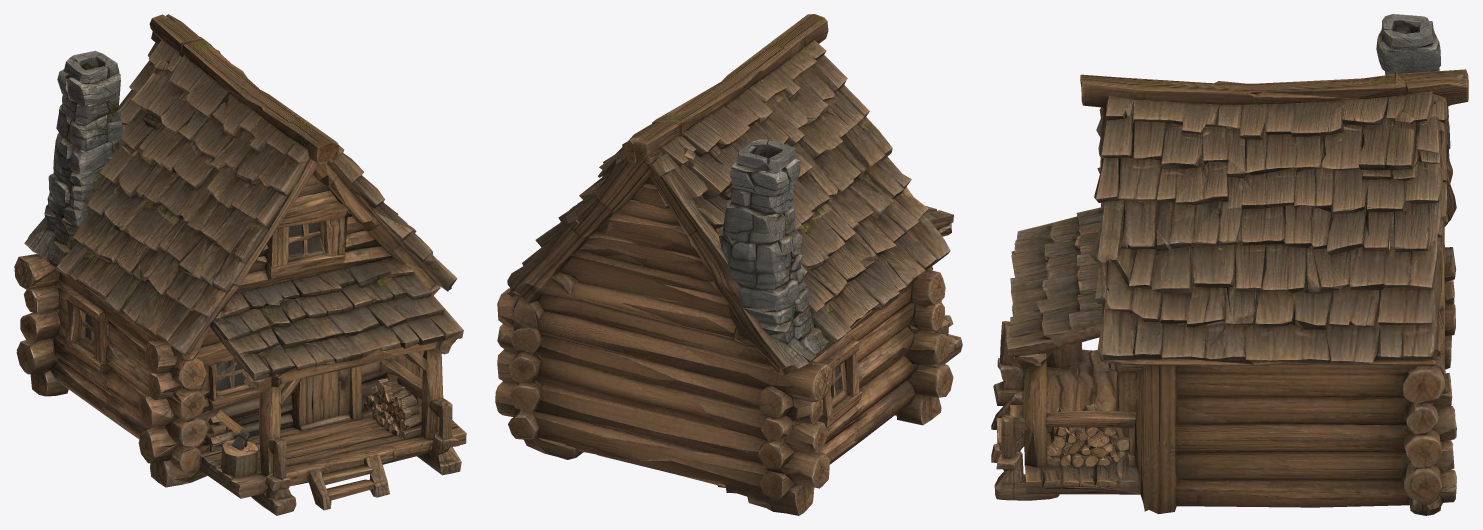
The model's file is poi_cabin.glb.
The picture shows the model from 3 angles, left to right: view 1: azimuth 30°, elevation 25°; view 2: azimuth 150°, elevation 25°; view 3: azimuth 270°, elevation 25°; orthographic projection. The views are drawn at different scales.
Visible parts, largest first — view 1: poi_cabin; view 2: poi_cabin; view 3: poi_cabin.
Part boxes in pixels (box(x1,y1,x2,y2)): poi_cabin: box(14, 14, 466, 515); poi_cabin: box(495, 14, 962, 515); poi_cabin: box(991, 14, 1468, 515).
Bounding box in the file's own units: 8.41 × 8.75 × 10.
Materials: 1 (1 with a texture image).
